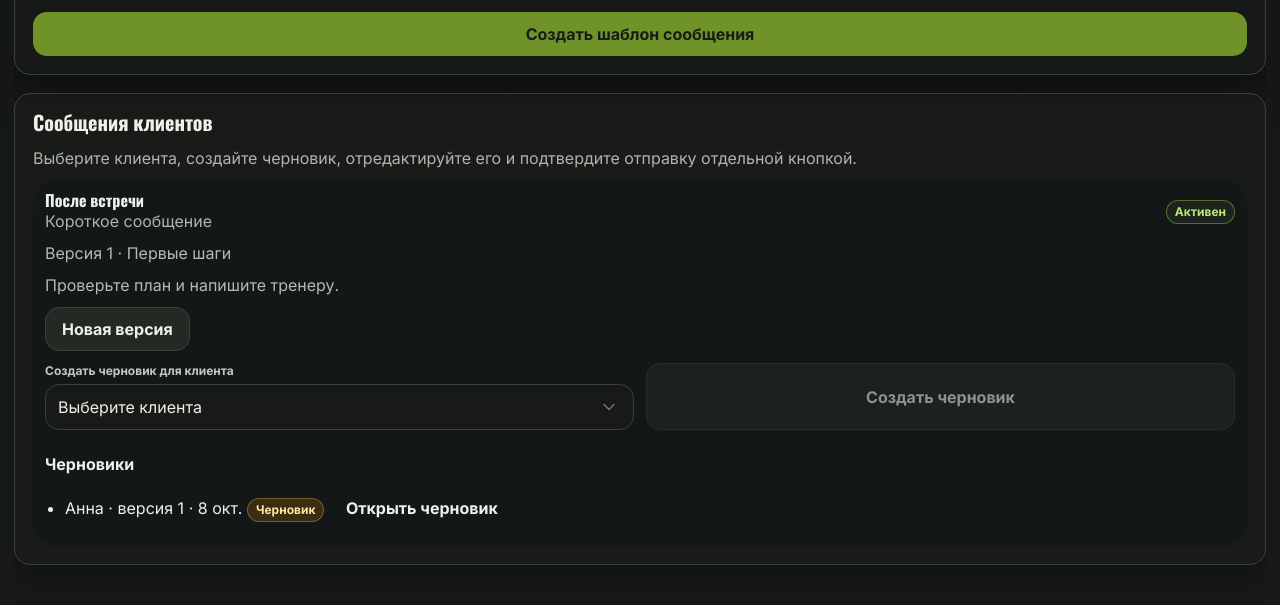
Test: CoachWorkflowTemplates › edits a draft and sends it only after explicit confirmation
(page scrolled)
Click the button "Открыть черновик" at (422, 508), box x1=329 y1=486 x2=515 y2=530
(page scrolled)
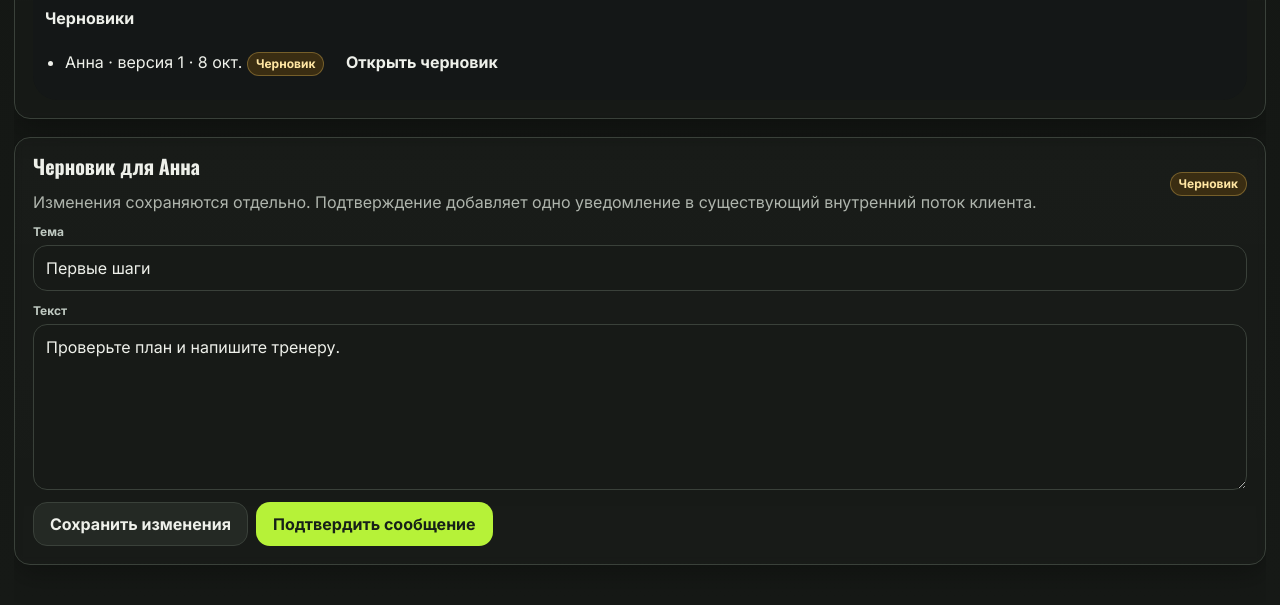
Replace the text in the field showing "Первые шаги" with "Проверка плана" at (640, 268), box x1=33 y1=245 x2=1247 y2=291
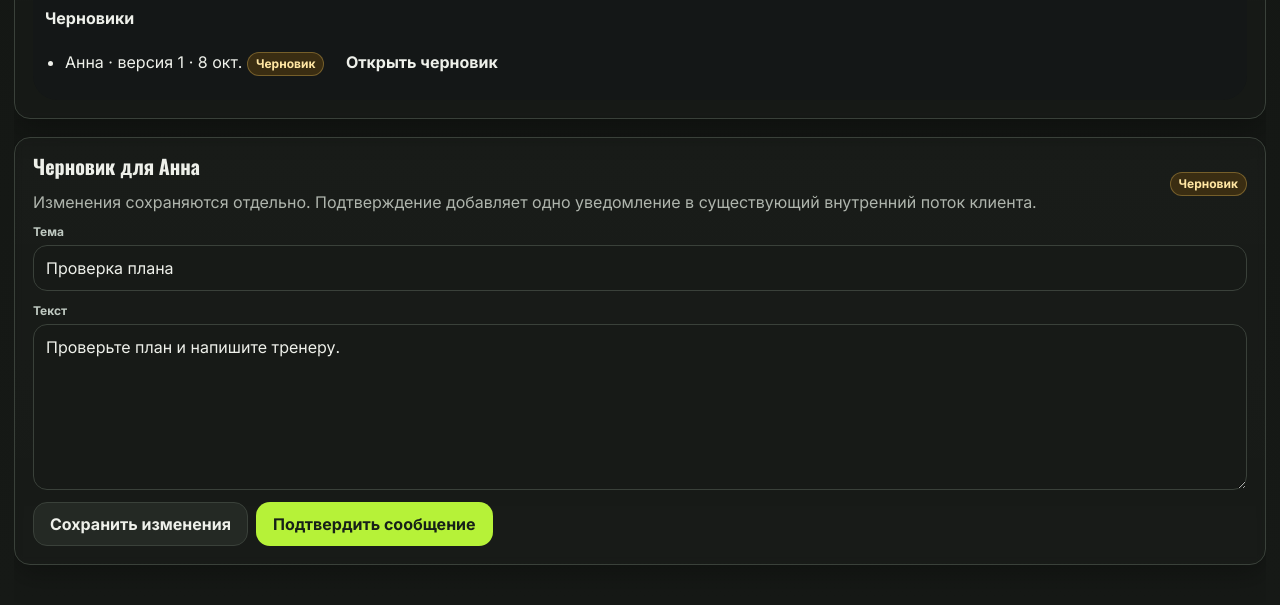
Replace the text in the text box showing "Проверьте план и напишите тренеру." with "Напишите тренеру после проверки." at (640, 407), box x1=33 y1=324 x2=1247 y2=490
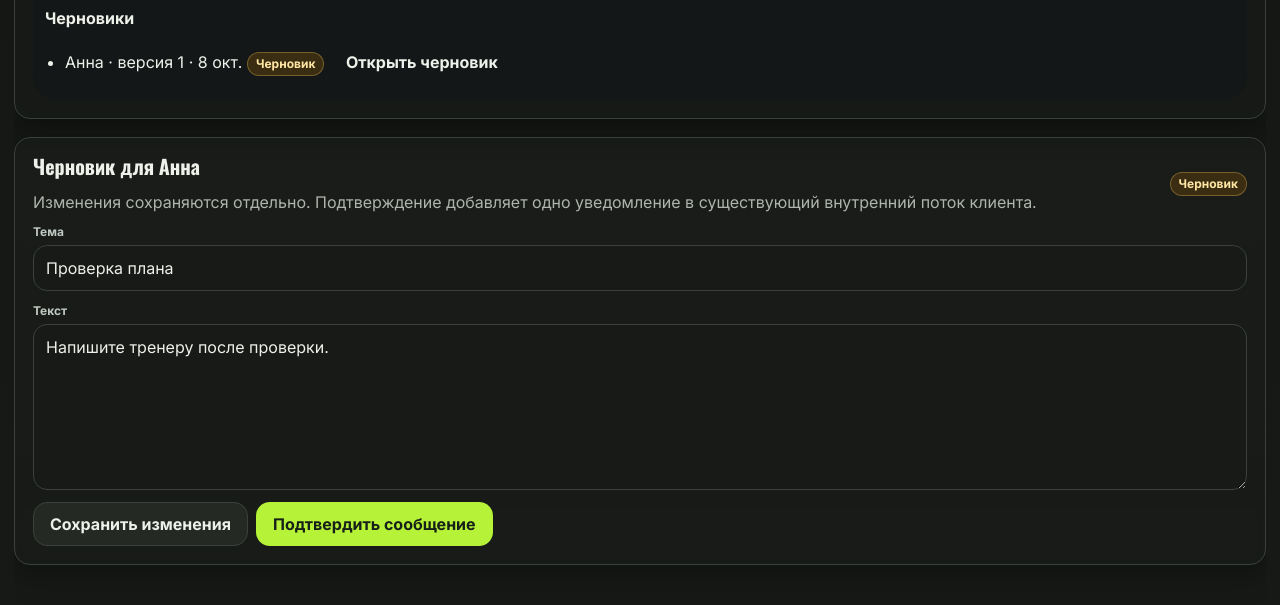
Click the button "Сохранить изменения" at (140, 524), box x1=33 y1=502 x2=248 y2=546
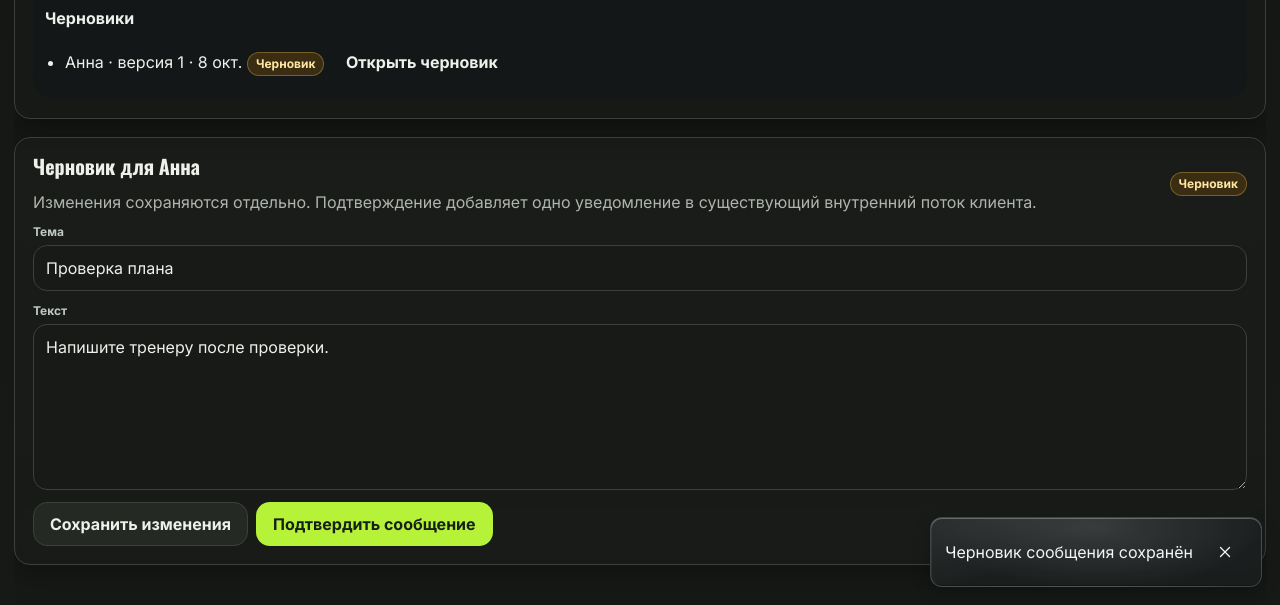
Click the button "Подтвердить сообщение" at (374, 524), box x1=256 y1=502 x2=493 y2=546
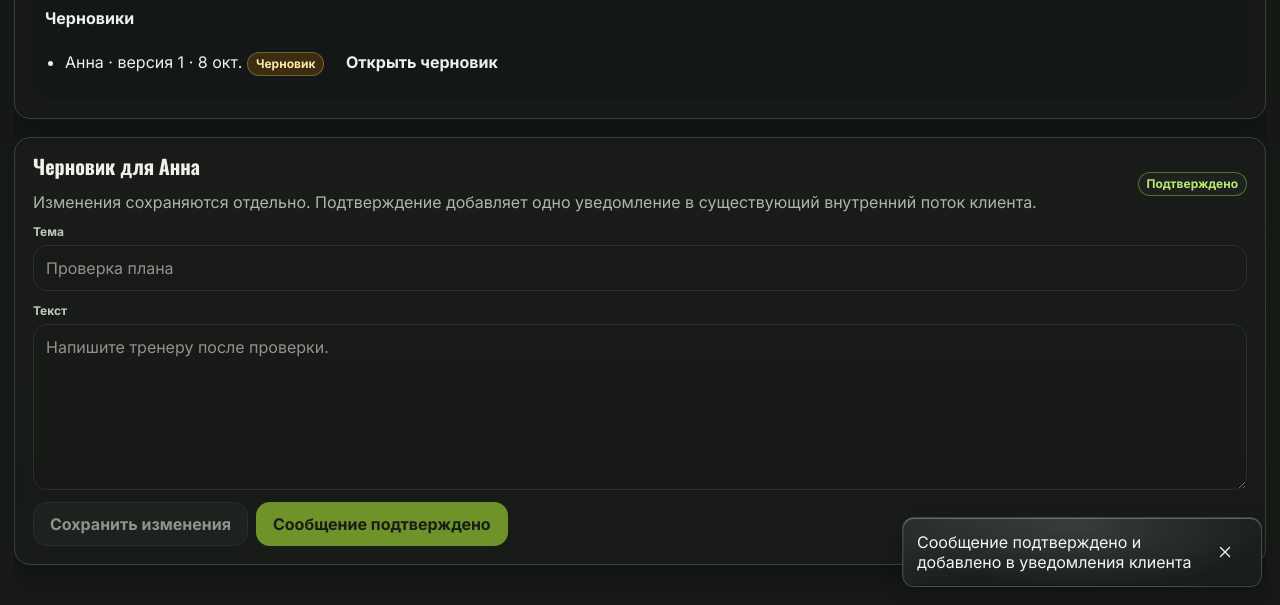
Result: the button "Сообщение подтверждено" is shown at x1=256 y1=502 x2=508 y2=546
